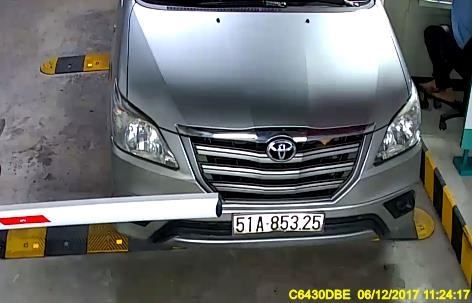plate: (231, 211, 324, 235)
